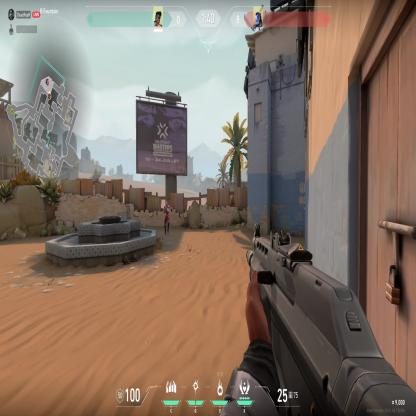enemy: (163, 200, 170, 236)
